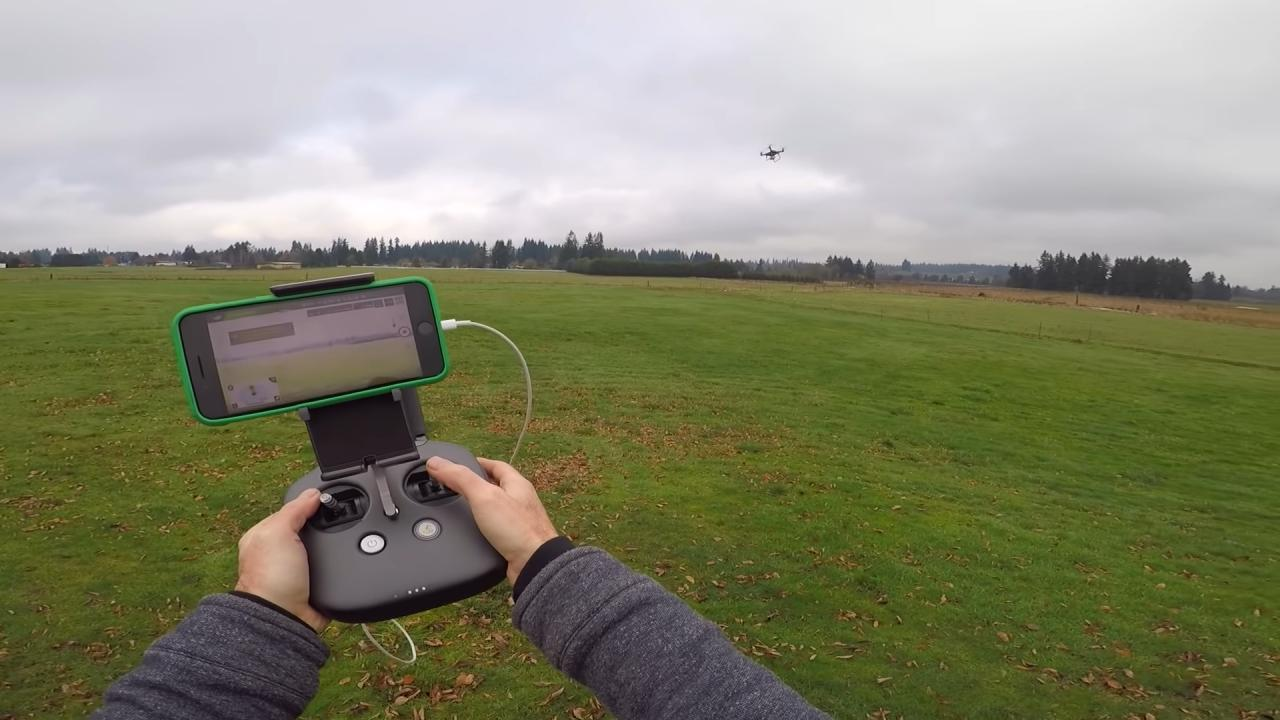Drone: (744, 138, 794, 173)
